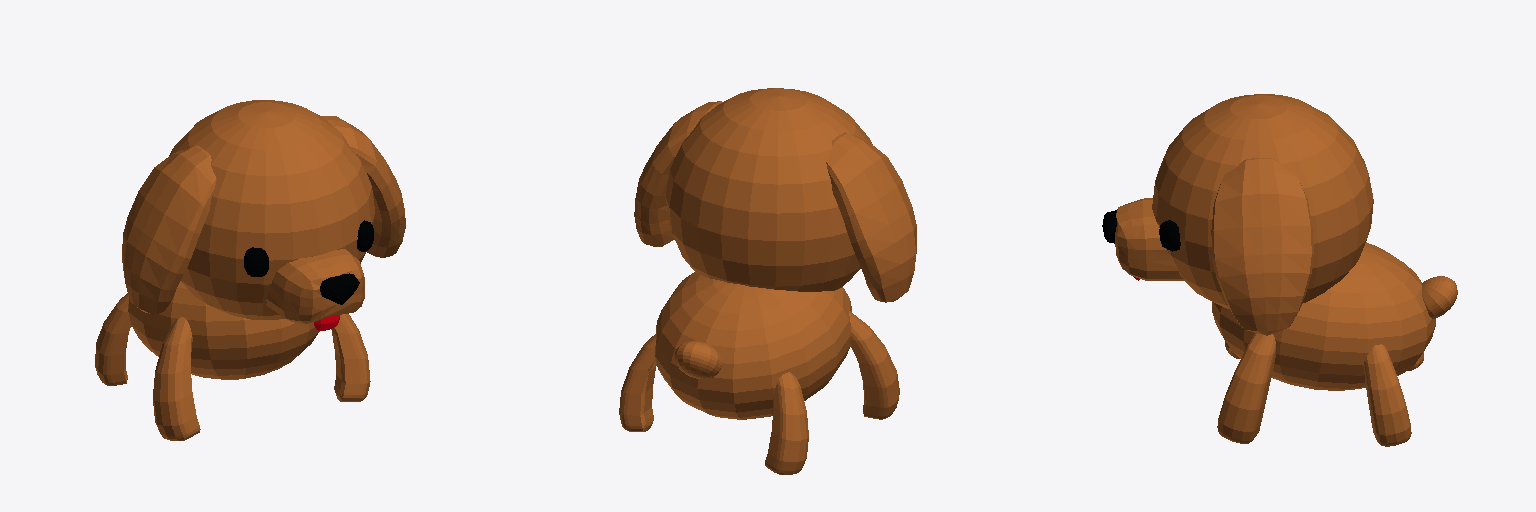
File: dog.obj
The picture shows the model from 3 angles: view 1: azimuth 30°, elevation 25°; view 2: azimuth 150°, elevation 25°; view 3: azimuth 270°, elevation 25°; orthographic projection.
Parts seen in each view (by area): view 1: character_dogHead_Cube.1339, Sphere_Sphere.002, character_dog_Cube.002_character_dog_Cube.001, character_dog_Cube.001; view 2: character_dogHead_Cube.1339, Sphere_Sphere.002, character_dog_Cube.001, character_dog_Cube.002_character_dog_Cube.001, Sphere.001_Sphere.003; view 3: character_dogHead_Cube.1339, Sphere_Sphere.002, character_dog_Cube.002_character_dog_Cube.001, character_dog_Cube.001, Sphere.001_Sphere.003.
Boxes of the visible parts, x1=… form: character_dogHead_Cube.1339: x1=122, y1=100, x2=405, y2=330; Sphere_Sphere.002: x1=128, y1=281, x2=319, y2=379; character_dog_Cube.002_character_dog_Cube.001: x1=153, y1=314, x2=370, y2=440; character_dog_Cube.001: x1=95, y1=293, x2=131, y2=385; character_dogHead_Cube.1339: x1=634, y1=88, x2=916, y2=302; Sphere_Sphere.002: x1=655, y1=272, x2=851, y2=419; character_dog_Cube.001: x1=619, y1=334, x2=808, y2=474; character_dog_Cube.002_character_dog_Cube.001: x1=849, y1=311, x2=899, y2=419; Sphere.001_Sphere.003: x1=675, y1=341, x2=721, y2=378; character_dogHead_Cube.1339: x1=1102, y1=94, x2=1373, y2=335; Sphere_Sphere.002: x1=1212, y1=242, x2=1435, y2=390; character_dog_Cube.002_character_dog_Cube.001: x1=1217, y1=333, x2=1275, y2=443; character_dog_Cube.001: x1=1364, y1=344, x2=1423, y2=446; Sphere.001_Sphere.003: x1=1422, y1=276, x2=1457, y2=318.
Size of the model in its own units: 1.17 by 1.27 by 1.35.